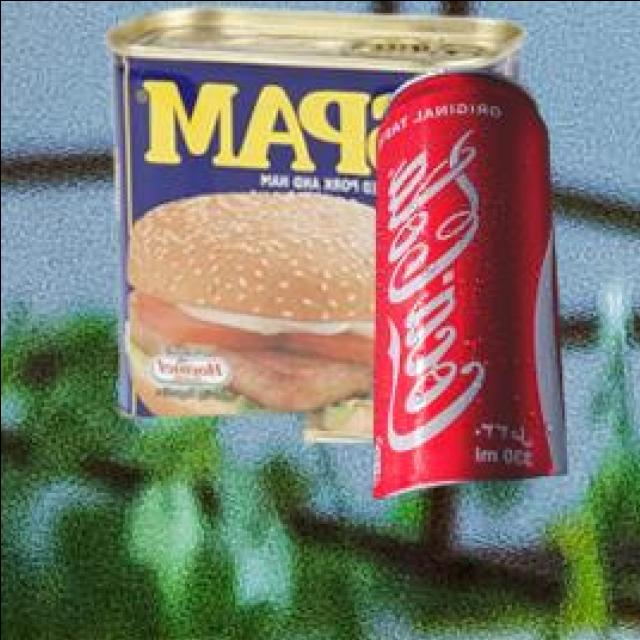logam: (101, 11, 519, 445), (370, 70, 562, 500)
